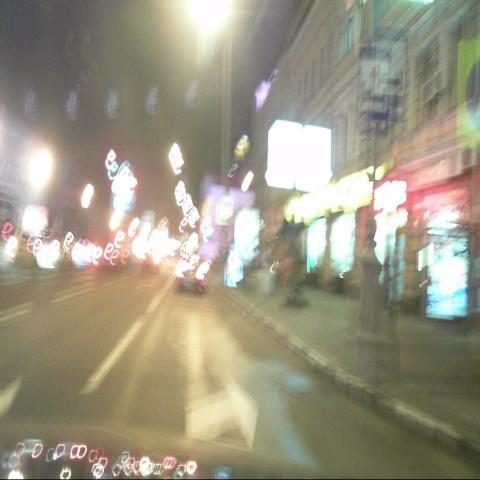7_2: (356, 43, 391, 139)
